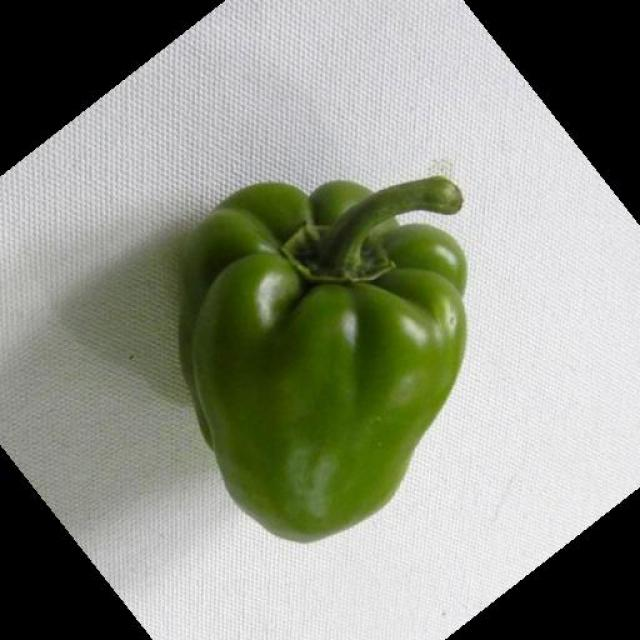Fresh_Capsicum: (165, 190, 459, 529)
